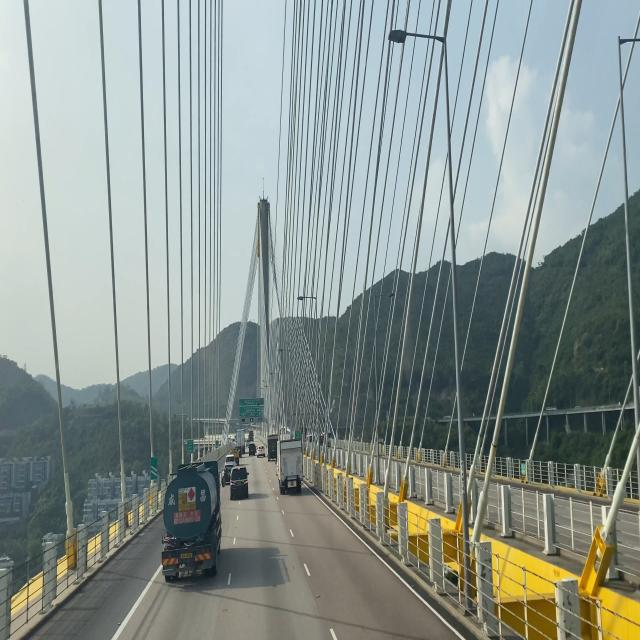Car: (161, 459, 223, 580), (274, 436, 308, 496), (230, 460, 249, 503)
